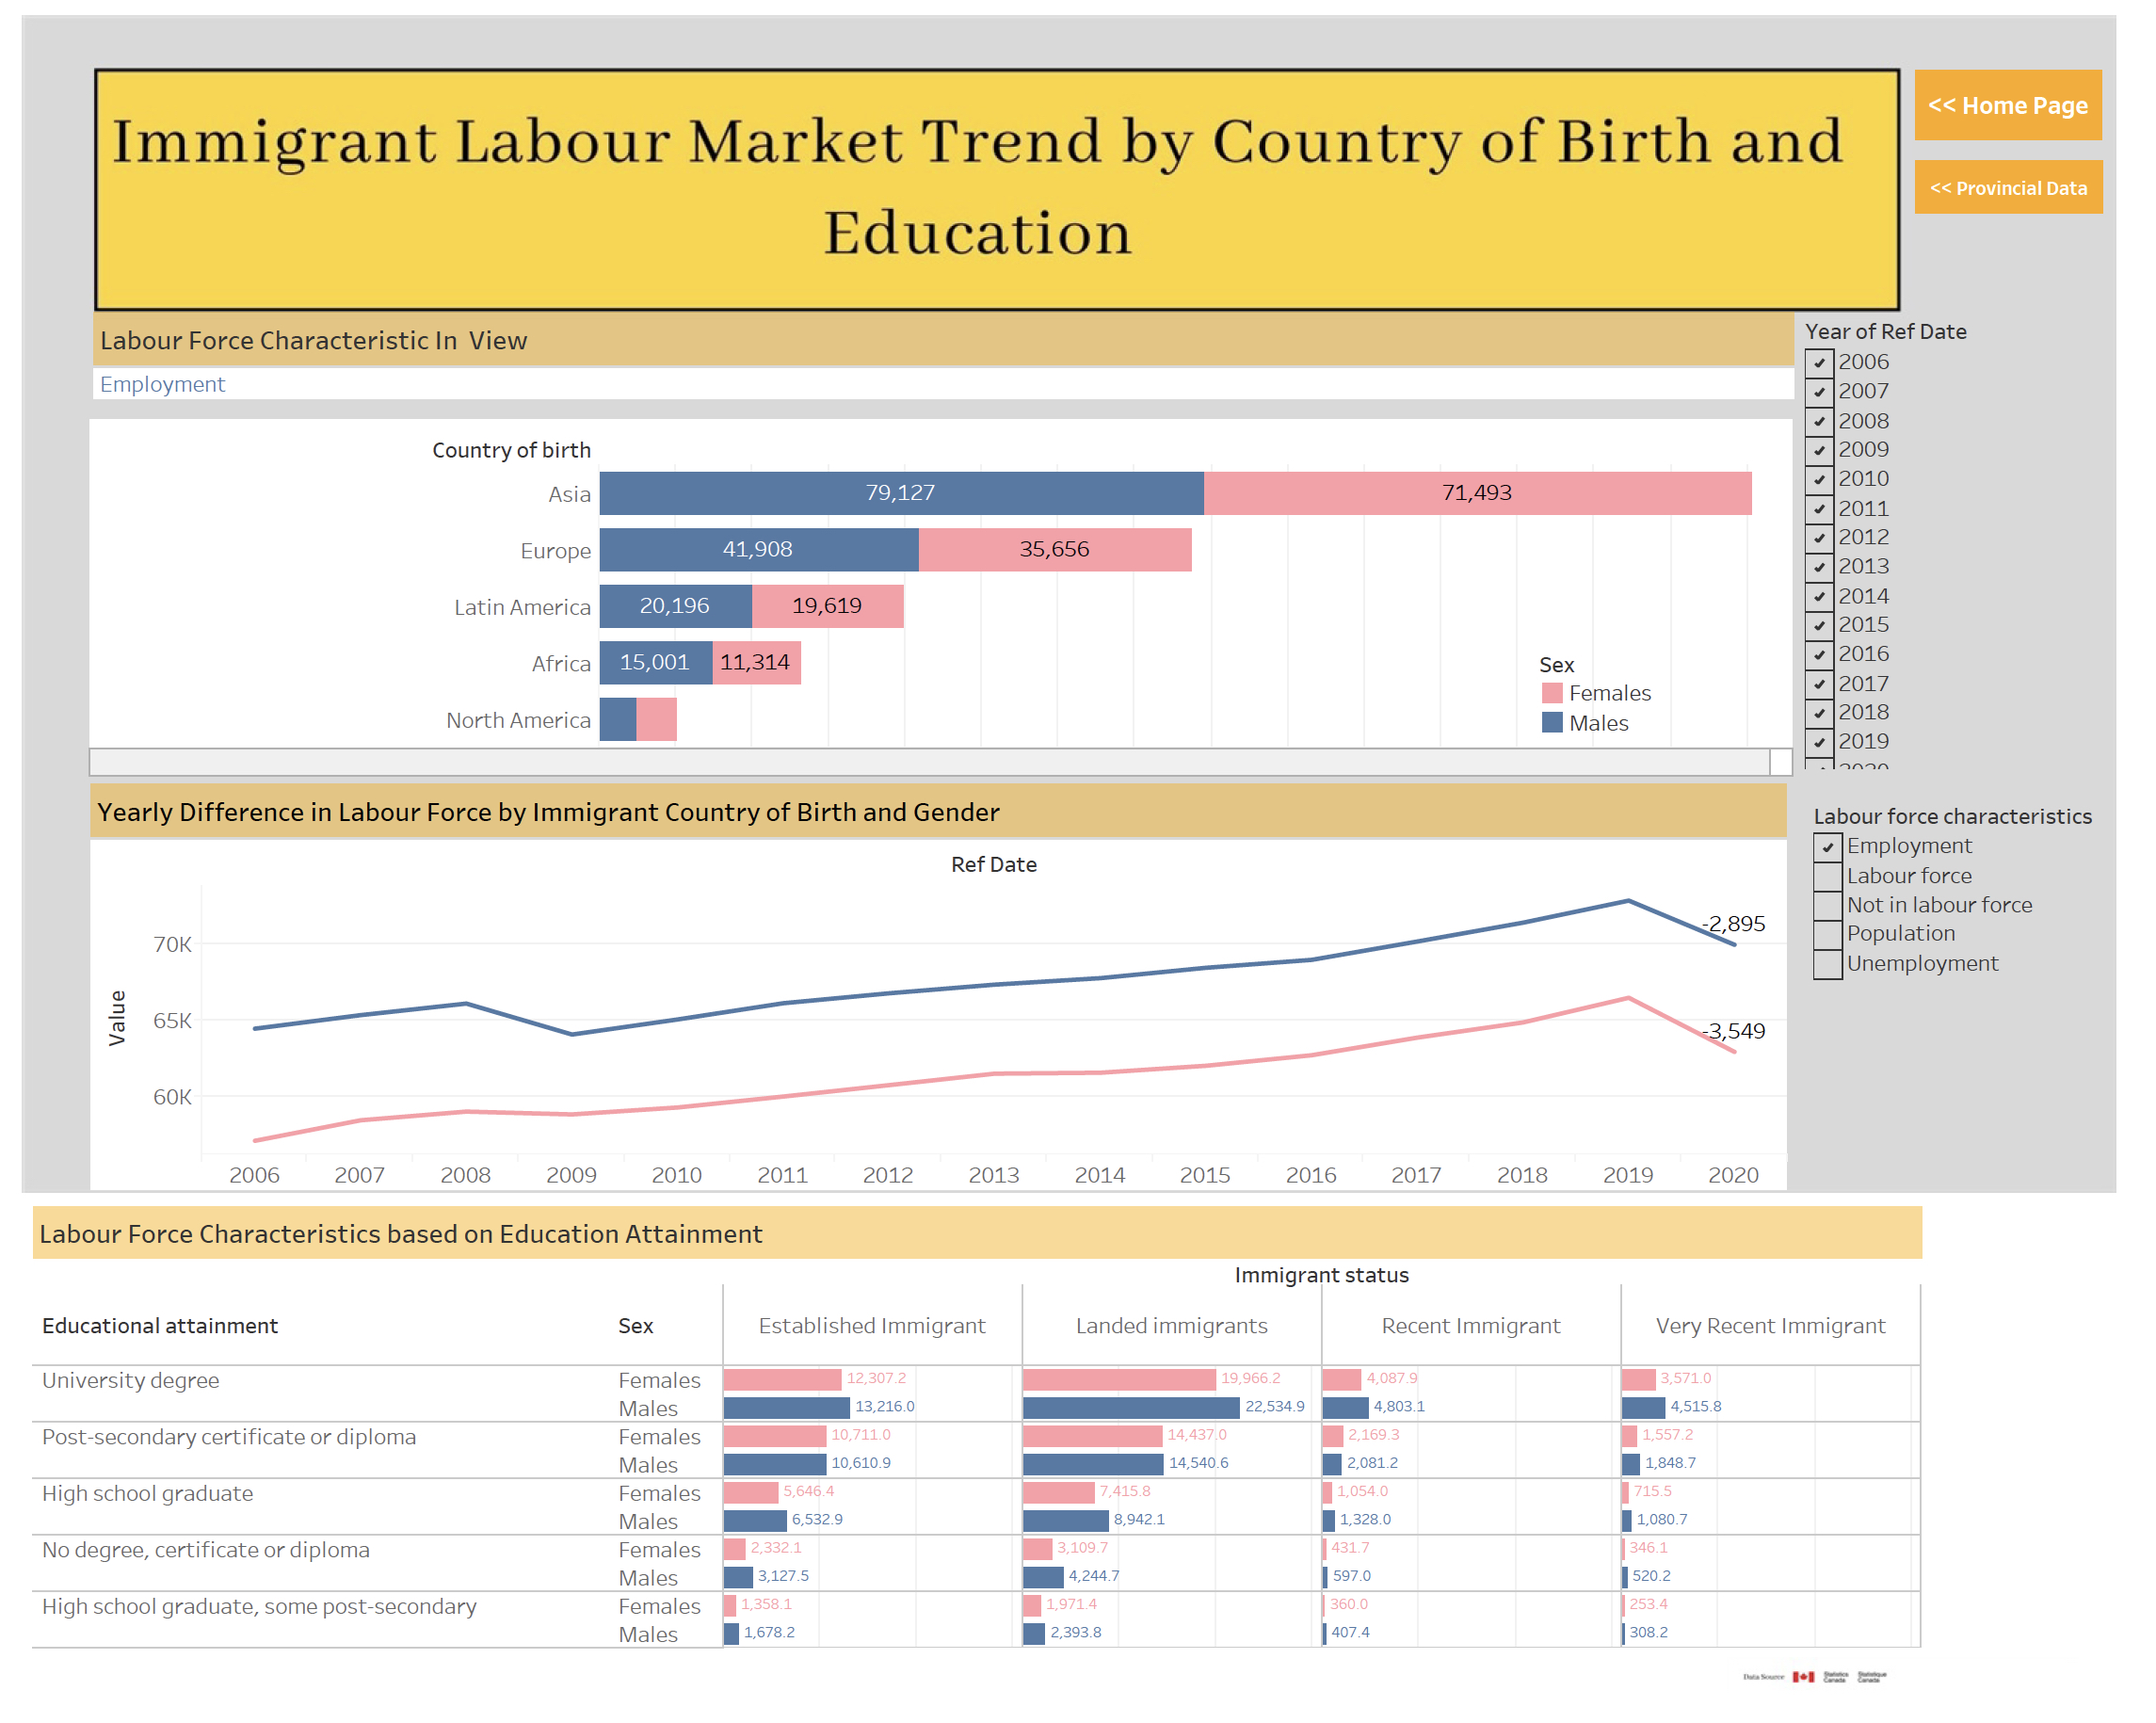

Layout of this report page (visuals, bound fields, positions):
{"tool":"tableau","page":{"name":"Page 3","canvas":[1500,1200],"ordinal":2},"visuals":[{"type":"blank","box":[8,8,1484,1184]},{"type":"image","param":"Image/2 Canadian Immigrant Labour Market Trends (1).jpg","box":[9,15,1482,1182]},{"type":"dashboard-object","box":[1349,54,132,49]},{"type":"dashboard-object","box":[1349,118,133,37]},{"type":"worksheet","title":"Title D3","mark":"Automatic","box":[60,225,1203,82]},{"type":"filter","title":"D3C1","param":"[federated.0z9senc1y9f3wa10rx5m408wek5e].[yr:REF_DATE:ok]","box":[1271,227,160,321]},{"type":"worksheet","title":"D3C1","mark":"Automatic","rows":["Country of birth"],"cols":["VALUE"],"box":[57,301,1205,315]},{"type":"legend","title":"D3C1","param":"[federated.0z9senc1y9f3wa10rx5m408wek5e].[none:Sex:nk]","box":[1082,462,140,64]},{"type":"worksheet","title":"D3C1 (2)","mark":"Automatic","rows":["VALUE"],"cols":["REF_DATE"],"box":[58,559,1200,287]},{"type":"filter","title":"Title D3","param":"[federated.0z9senc1y9f3wa10rx5m408wek5e].[none:Labour force characteristics:nk]","box":[1277,570,205,166]},{"type":"worksheet","title":"D3C1(3)","mark":"Automatic","rows":["Educational attainment","Sex"],"cols":["Immigrant status","VALUE"],"box":[17,858,1472,335]}]}

Visuals, with their boxes in screenshot pixels (x1, y1, x2, y2), scaled from the page's 1500x1200 canvas onto the 2156x1723 screenshot:
blank: [11,11,2145,1712]
image: [13,22,2143,1718]
dashboard-object: [1939,77,2129,148]
dashboard-object: [1939,169,2131,222]
"Title D3" worksheet: [87,323,1815,441]
"D3C1" filter: [1826,326,2057,787]
"D3C1" worksheet: [82,432,1814,884]
"D3C1" legend: [1555,664,1757,755]
"D3C1 (2)" worksheet: [84,802,1809,1215]
"Title D3" filter: [1836,818,2131,1056]
"D3C1(3)" worksheet: [24,1232,2140,1713]
